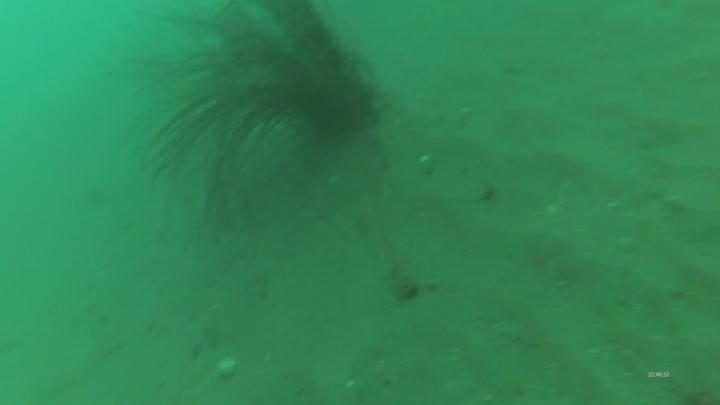waterweeds: (108, 1, 380, 237)
